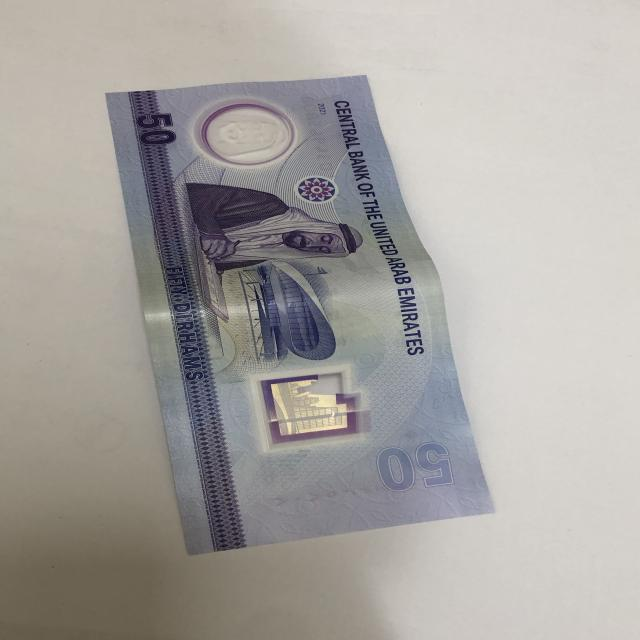50_AED: (104, 69, 502, 557)
